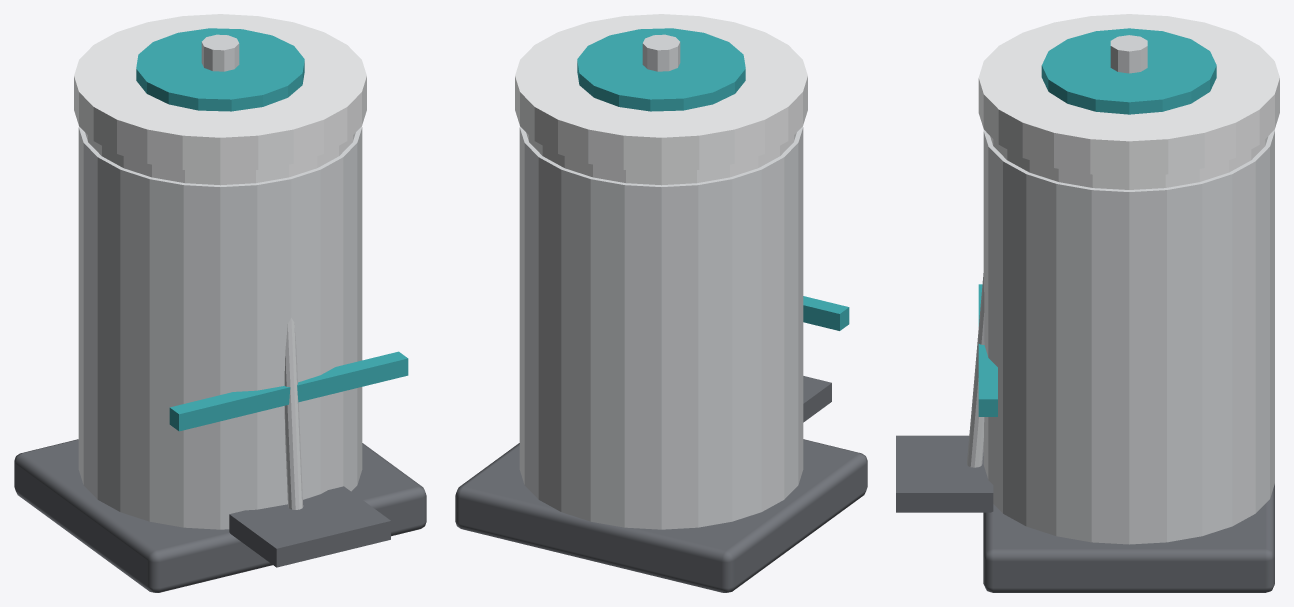
File: pedal-waste-bin.glb
3 renders of one model, left to right at view 1: azimuth 30°, elevation 25°; view 2: azimuth 150°, elevation 25°; view 3: azimuth 270°, elevation 25°, orthographic. The views are drawn at different scales.
Visible parts, largest first — view 1: pedal-waste-bin, lid/white, lid/teal, lid/steel; view 2: pedal-waste-bin, lid/white, lid/teal, lid/steel; view 3: pedal-waste-bin, lid/white, lid/teal, lid/steel.
Boxes of the visible parts, x1,y1,x2,y2 form: pedal-waste-bin: (14, 126, 426, 592); lid/white: (74, 14, 366, 171); lid/teal: (136, 28, 304, 111); lid/steel: (201, 34, 239, 71); pedal-waste-bin: (455, 126, 867, 592); lid/white: (515, 14, 807, 171); lid/teal: (577, 28, 745, 111); lid/steel: (642, 34, 680, 71); pedal-waste-bin: (896, 129, 1274, 592); lid/white: (978, 14, 1279, 176); lid/teal: (1041, 28, 1216, 114); lid/steel: (1110, 35, 1147, 73).
Size of the model in its own units: 0.34 by 0.549 by 0.395.
